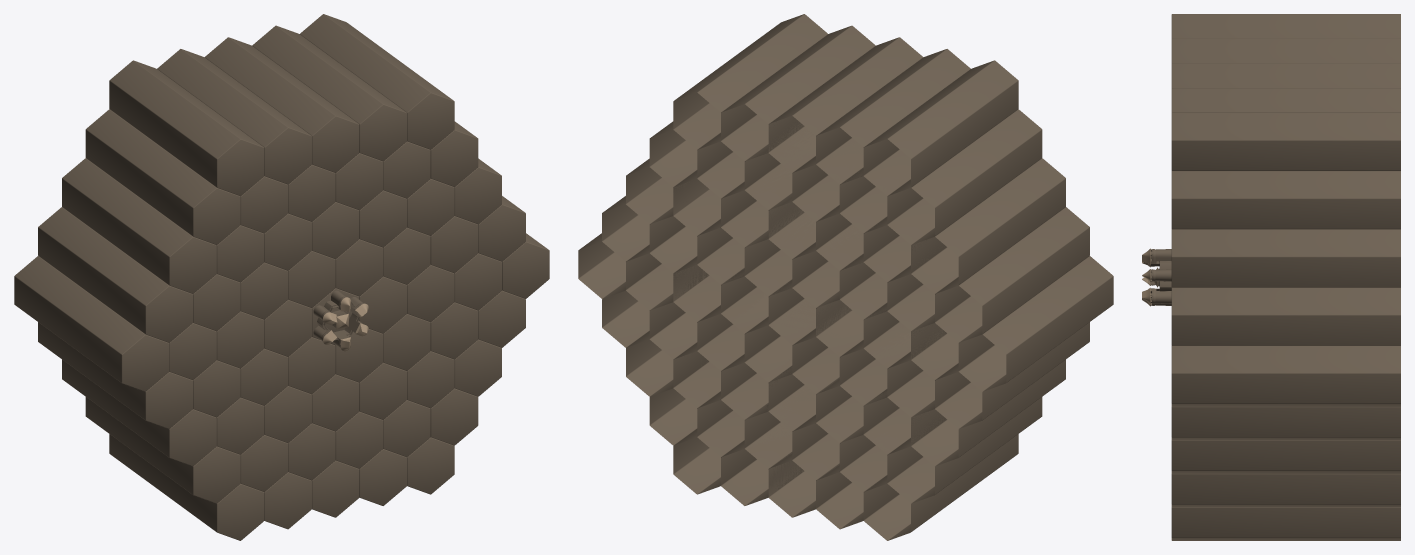
The model's file is main_menu.gltf.
The picture shows the model from 3 angles, left to right: view 1: azimuth 30°, elevation 25°; view 2: azimuth 150°, elevation 25°; view 3: azimuth 270°, elevation 25°; orthographic projection. The views are drawn at different scales.
Visible parts, largest first — view 1: Hex (×60), walls.001; view 2: Hex (×61); view 3: Hex (×13), walls.001.
Part boxes in pixels (left/top/right/bottom): Hex (×60): left=14, top=14, right=549, bottom=540; walls.001: left=313, top=290, right=368, bottom=351; Hex (×61): left=578, top=14, right=1113, bottom=540; Hex (×13): left=1171, top=14, right=1400, bottom=540; walls.001: left=1142, top=248, right=1171, bottom=306.
Bounding box in the file's own units: 15.59 × 13.99 × 7.67.
